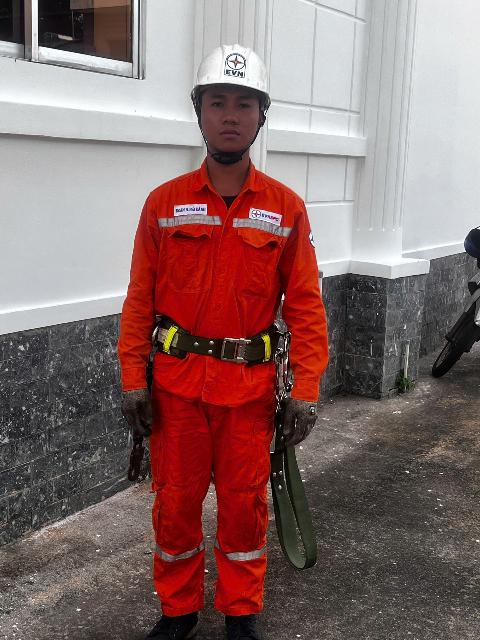gloves: (114, 385, 177, 452), (272, 387, 327, 447)
harness: (129, 306, 304, 372)
helmet: (178, 26, 290, 106)
shoes: (133, 598, 195, 640), (212, 596, 268, 640)
